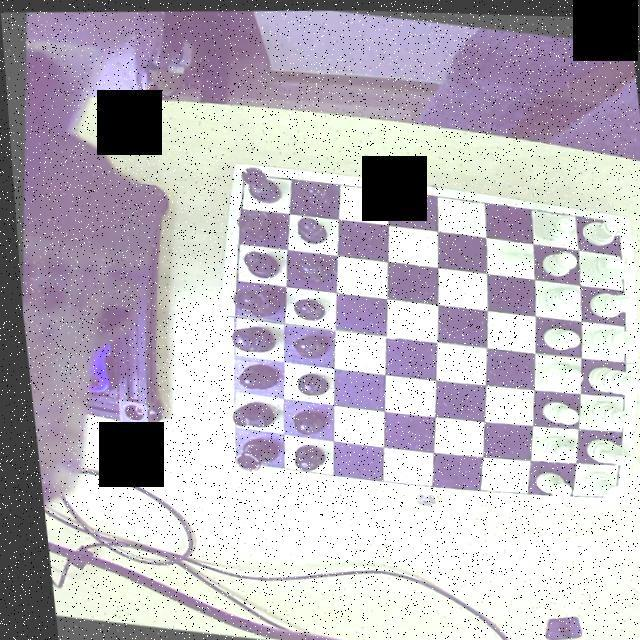chess-table-corners: (218, 442, 246, 468), (228, 162, 255, 188), (596, 208, 628, 228), (596, 477, 620, 500)
